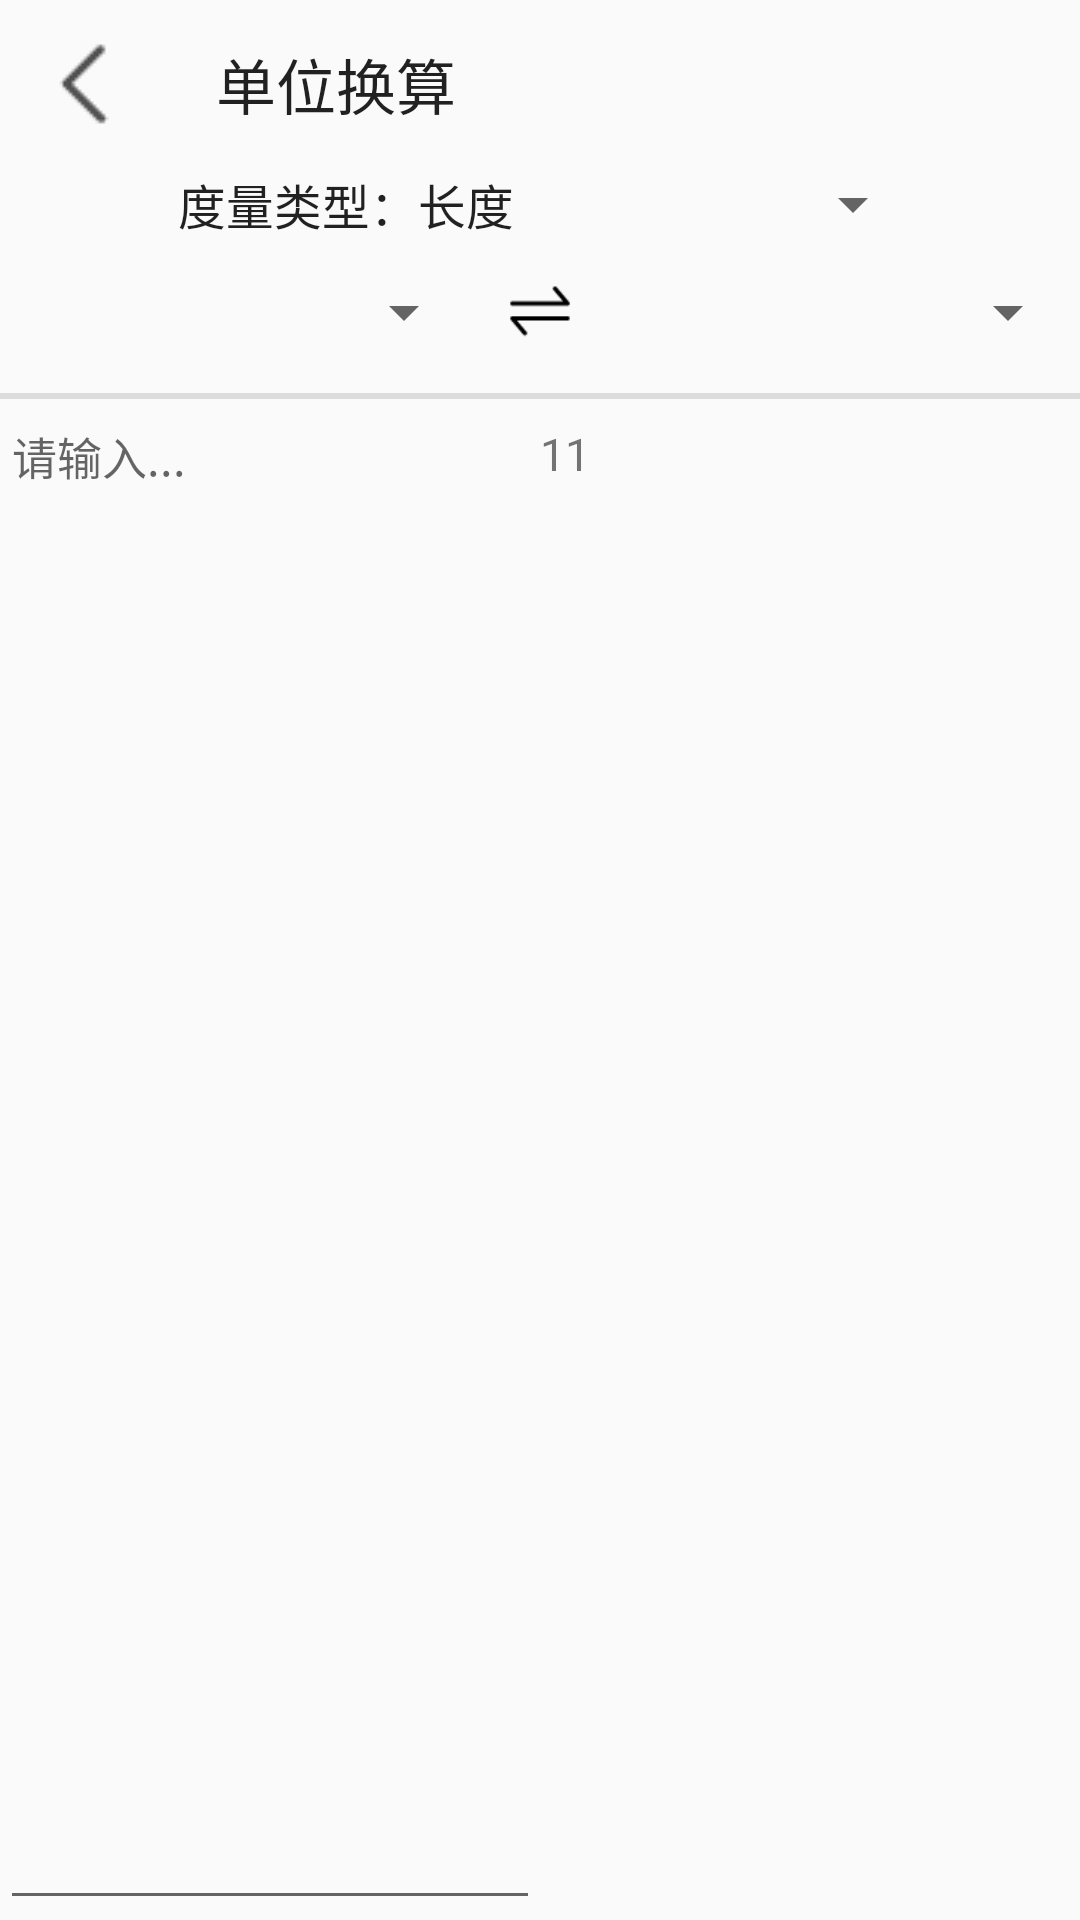

Icons on this 1080 × 1920 Android screen, each with its box as [x1,y1,x2,y2]:
change unit: [510,286,570,336]
